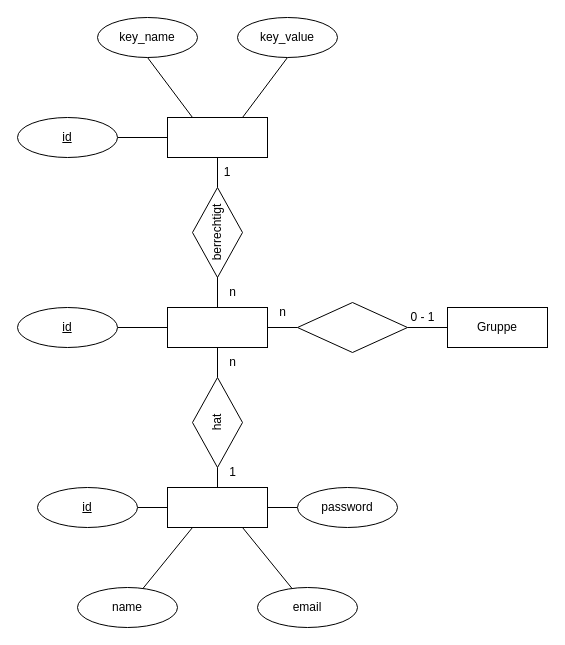
This 565x645 diagram has some shape labels left out. The centre of each missing label's shape, as x and y in pixels:
"gilt auschließlich" goes at point (352, 327).
"Permission" goes at point (217, 137).
"user" goes at point (217, 507).
"user_permission" goes at point (217, 327).
